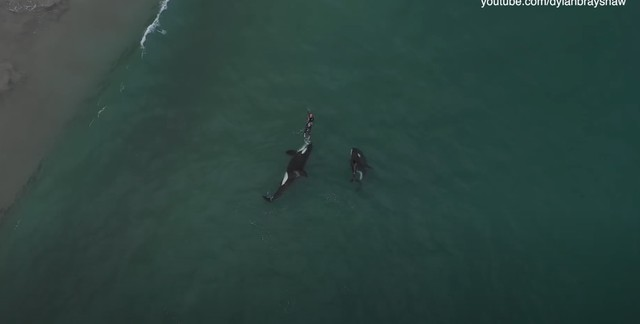whale: (261, 137, 316, 208), (345, 140, 369, 192)
